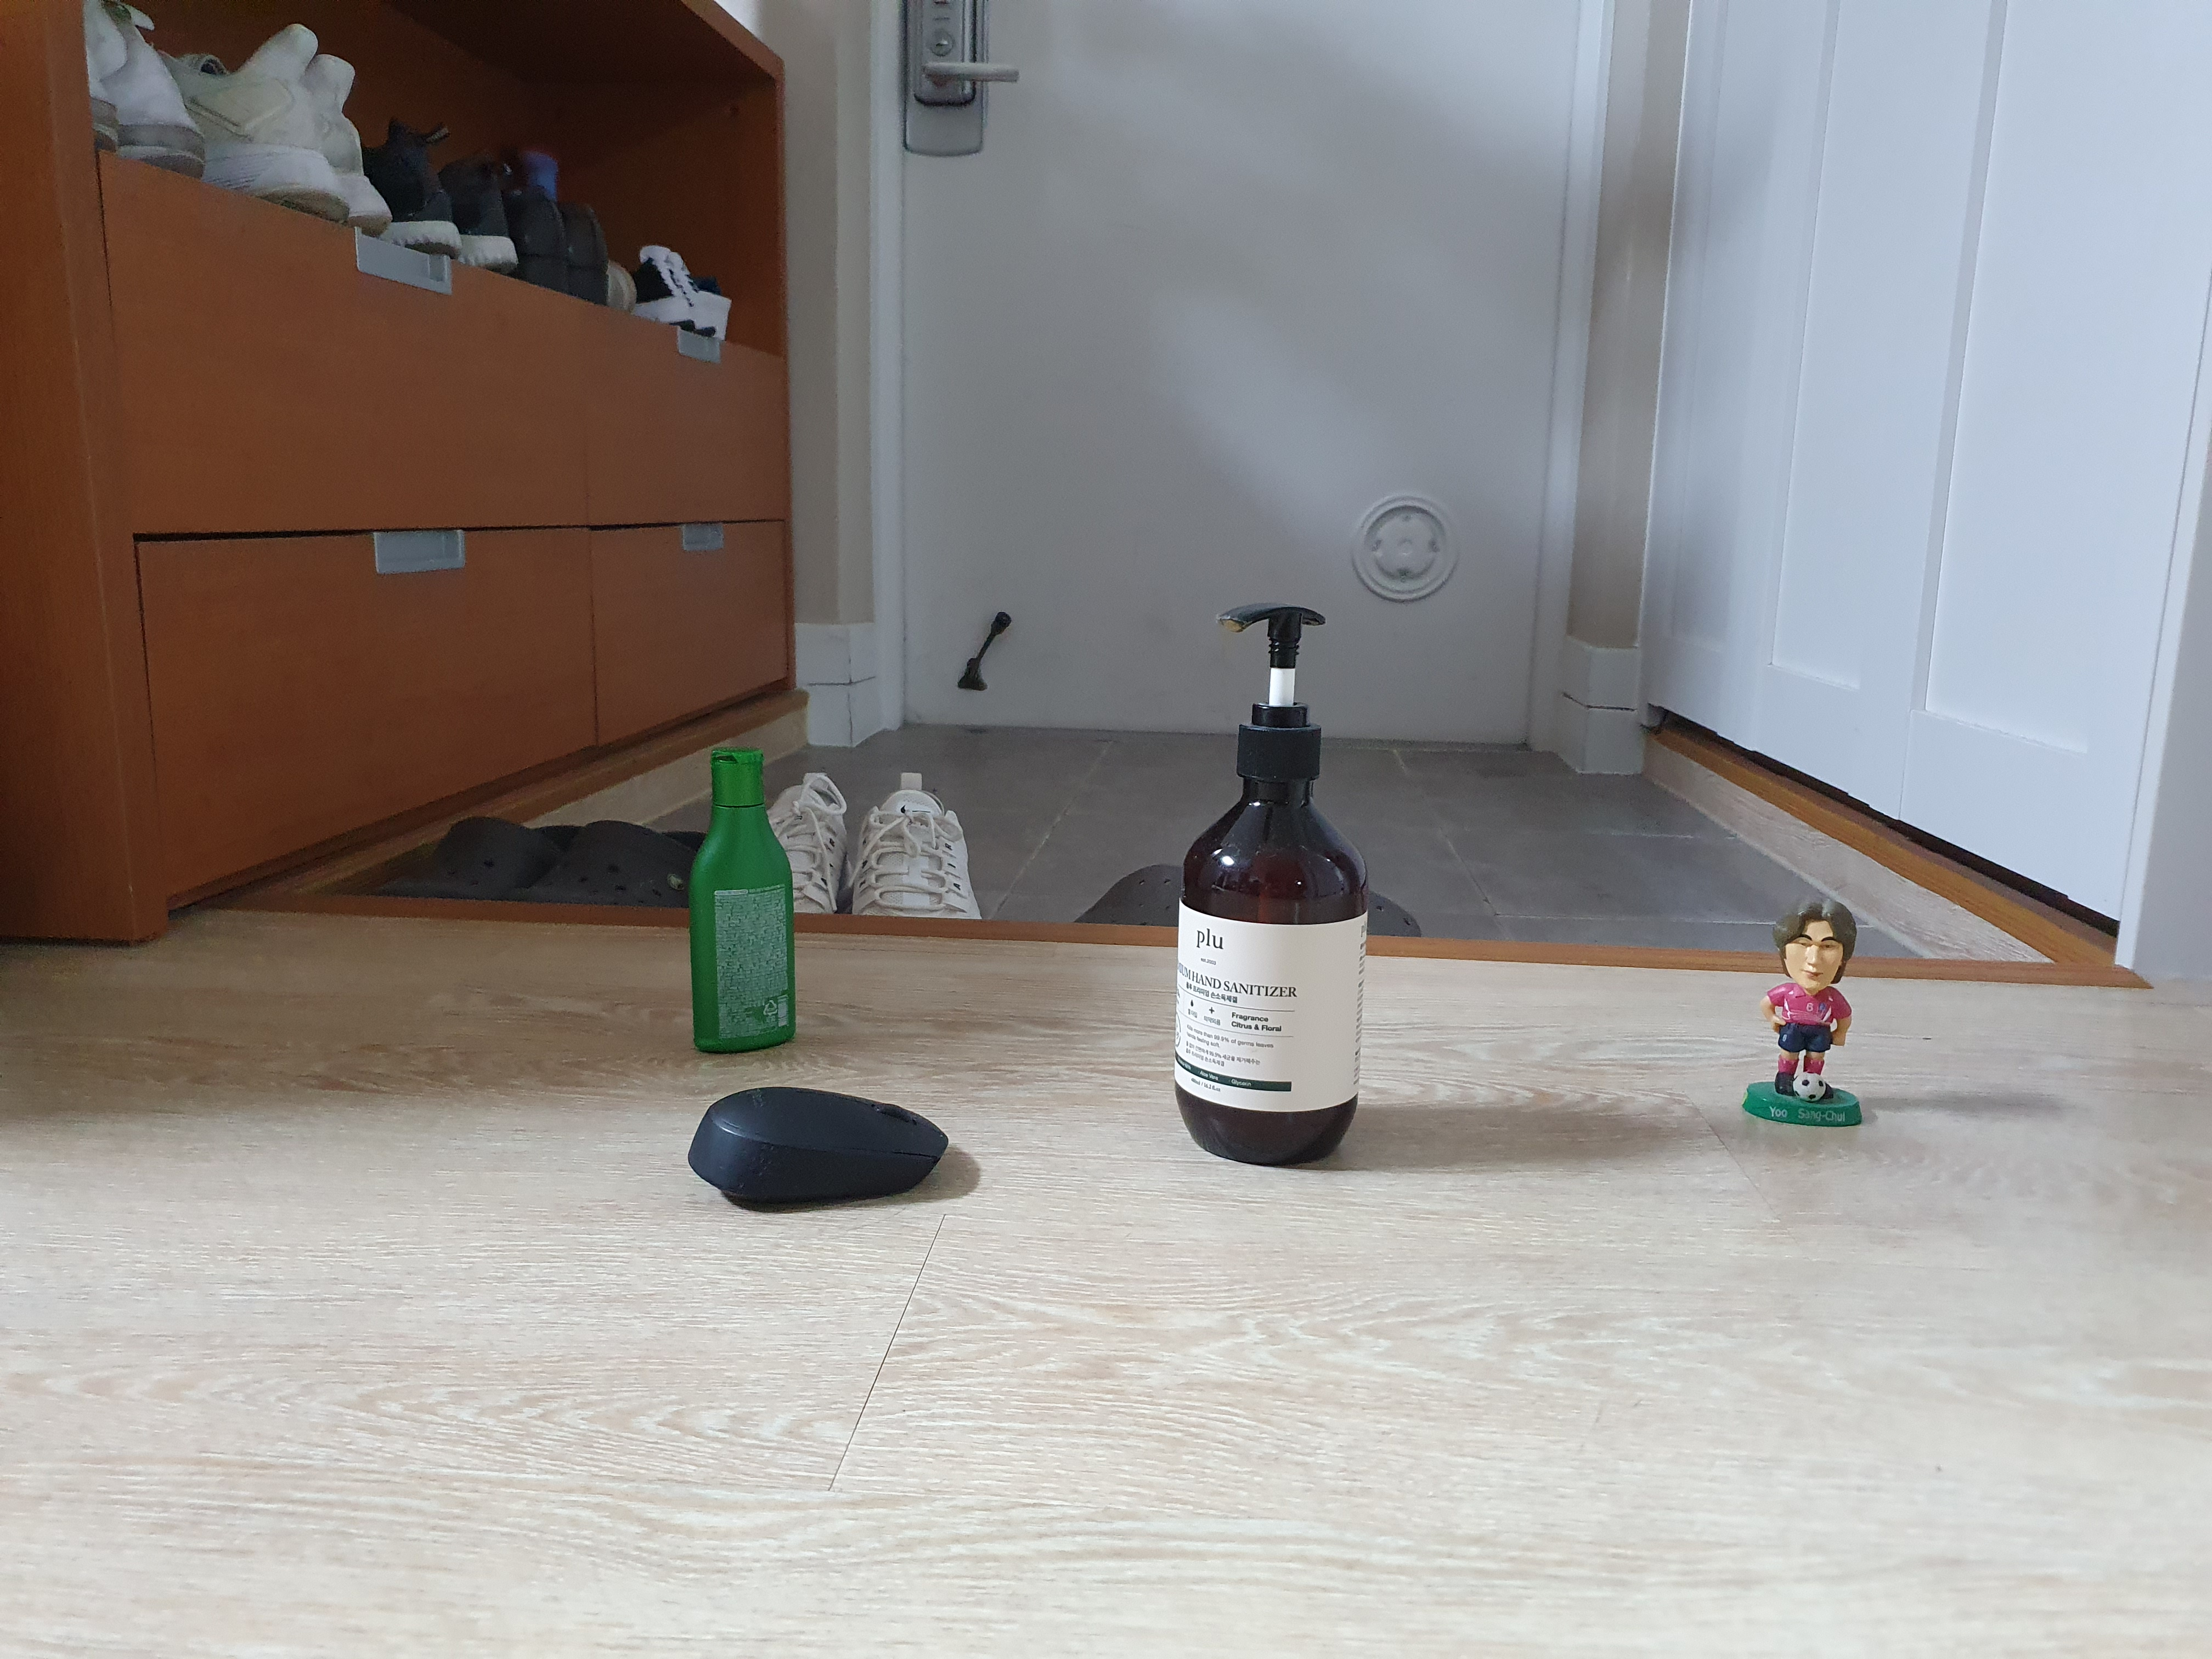bottle: (1160, 577, 1414, 1197)
mouse: (658, 1072, 988, 1218)
shampoo: (683, 728, 822, 1054)
yoo: (1728, 901, 1895, 1141)
